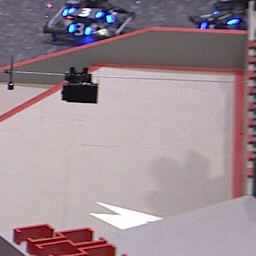Blue: (66, 6, 102, 19), (68, 22, 91, 37)
Robot: (42, 1, 135, 45), (189, 1, 256, 35)
